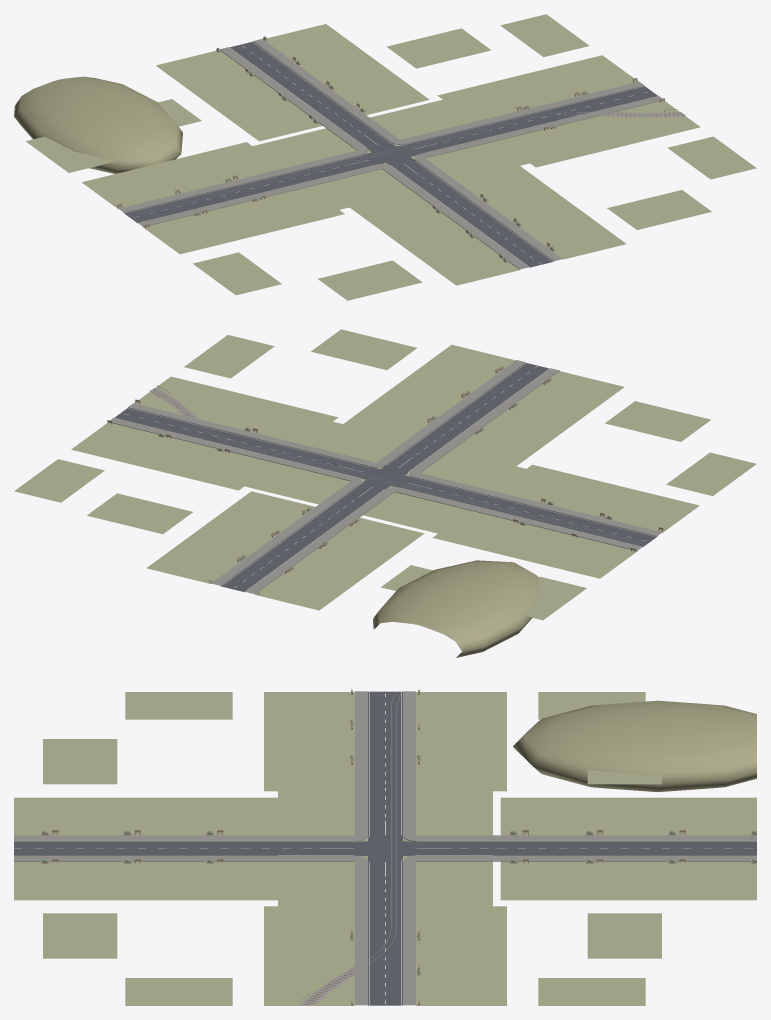
3 renders of one model, top to bottom at view 1: azimuth 30°, elevation 25°; view 2: azimuth 150°, elevation 25°; view 3: azimuth 270°, elevation 25°, orthographic. The views are drawn at different scales.
Visible parts, largest first — view 1: static; view 2: static; view 3: static.
Boxes of the visible parts, <box> form: static: <box>14,14,756,300</box>; static: <box>14,329,756,657</box>; static: <box>14,688,756,1005</box>.
Size of what is drawn, in the model's own units: 180 by 14.08 by 180.
